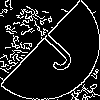J: (25, 25, 78, 75)
